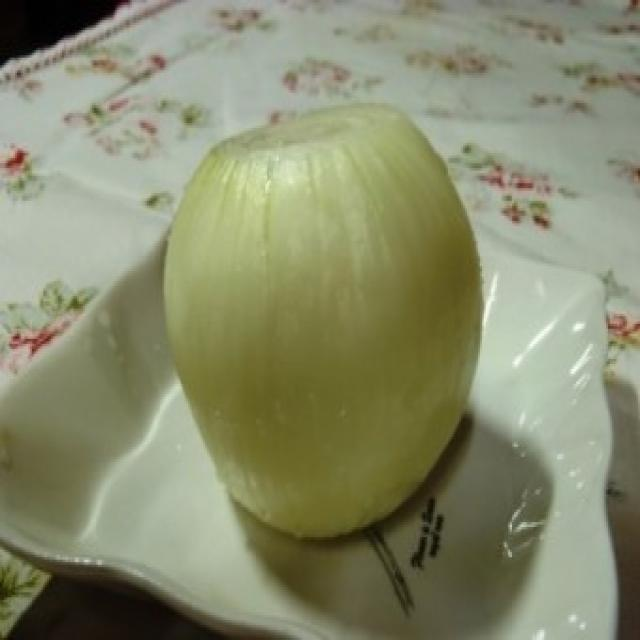onion: (146, 91, 498, 550)
